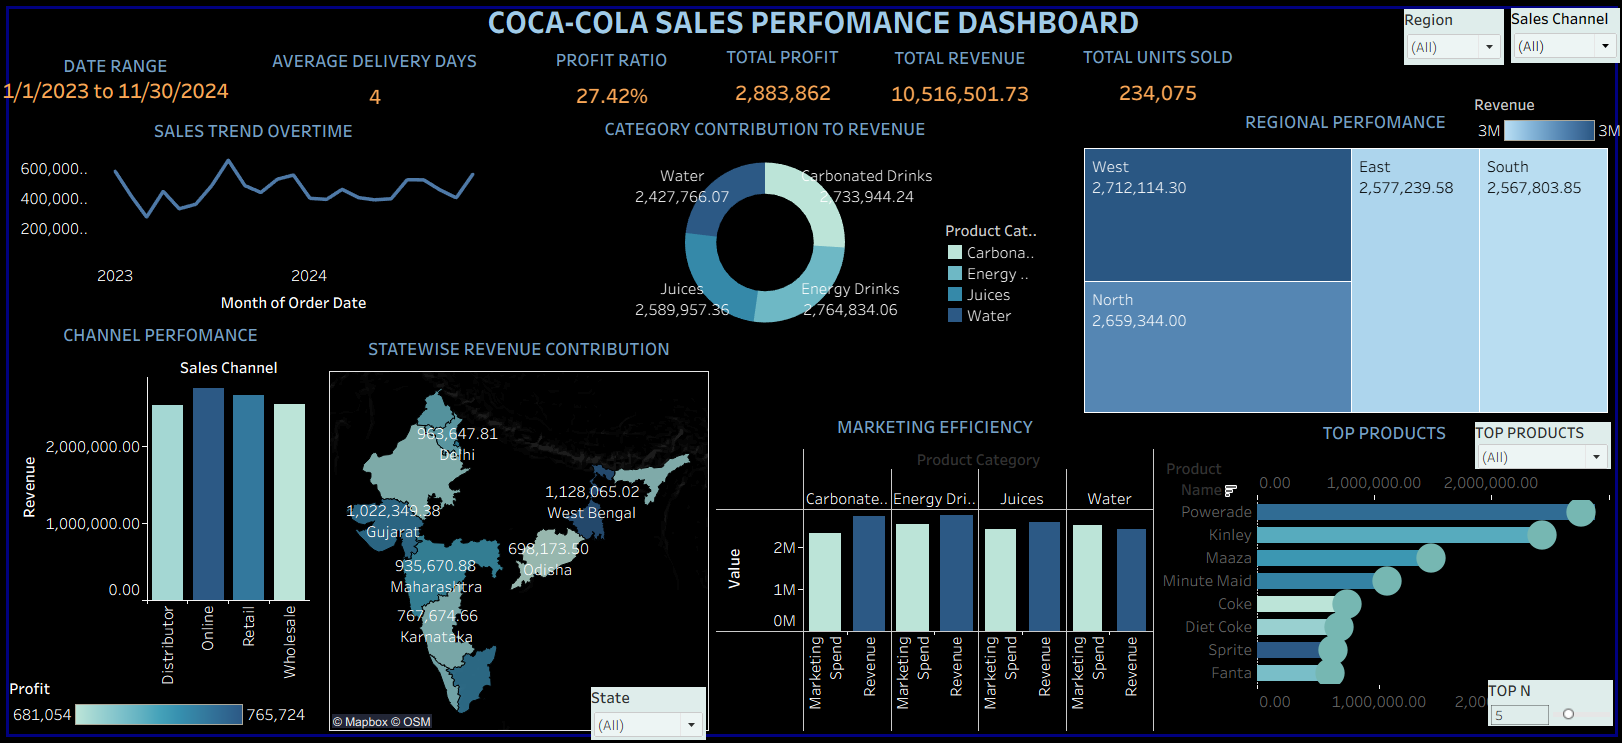

This screenshot's page, from the dashboard's own definition file:
{"tool":"tableau","page":{"name":"Dashboard 1","canvas":[1000,1000],"units":"permille","ordinal":0},"visuals":[{"type":"text","box":[1.8,8,998.2,45.5]},{"type":"filter","title":"CHANNEL PERFOMANCE","param":"[federated.11aw04m0gh0ih91061v0d1frz126].[none:Sales_Channel:nk]","box":[929.4,13.4,67,73.6]},{"type":"filter","title":"REGIONAL PERFOMANCE","param":"[federated.11aw04m0gh0ih91061v0d1frz126].[none:Region:nk]","box":[863.6,14.7,61.4,75]},{"type":"text","box":[0.6,50.9,143.1,115.1]},{"type":"worksheet","title":"Total profit","mark":"Automatic","box":[436.7,56.2,102,115.1]},{"type":"worksheet","title":"TOTAL UNITS SOLD","mark":"Automatic","box":[647.4,56.2,130.2,95]},{"type":"worksheet","title":"TOTAL REVENUE","mark":"Automatic","box":[541.1,57.6,104.4,107.1]},{"type":"worksheet","title":"PROFIT RATIO","mark":"Automatic","box":[322.5,60.2,124.1,109.8]},{"type":"worksheet","title":"avg delivery days","mark":"Automatic","box":[148,61.6,175.7,108.4]},{"type":"legend","title":"REGIONAL PERFOMANCE","param":"[federated.11aw04m0gh0ih91061v0d1frz126].[sum:Revenue:qk]","box":[906.6,128.5,93.4,117.8]},{"type":"worksheet","title":"REGIONAL PERFOMANCE","mark":"Automatic","box":[664.6,143.2,326.2,416.3]},{"type":"worksheet","title":"CATEGORY CONTRIBUTION TO REVENUE","mark":"Pie","rows":["Calculation_1323864894205964","Calculation_1323864894205964"],"box":[300.4,152.6,341.5,297.2]},{"type":"worksheet","title":"SALES TREND OVERTIME","mark":"Automatic","rows":["Revenue"],"cols":["Order_Date"],"box":[10.4,155.3,293,275.8]},{"type":"legend","title":"CATEGORY CONTRIBUTION TO REVENUE","param":"[federated.11aw04m0gh0ih91061v0d1frz126].[none:Product_Category:nk]","box":[581.7,297.2,58.4,141.9]},{"type":"worksheet","title":"CHANNEL PERFOMANCE","mark":"Automatic","rows":["Revenue"],"cols":["Sales_Channel"],"box":[8,428.4,183.7,511.4]},{"type":"worksheet","title":"STATEWISE REVENUE CONTRIBUTION","mark":"Automatic","box":[203.3,447.1,233.4,534.1]},{"type":"worksheet","title":"MARKETING EFFICIENCY","mark":"Automatic","cols":["Product_Category"],"box":[441,551.5,269,431.1]},{"type":"worksheet","title":"TOP PRODUCTS","mark":"Automatic","rows":["Product_Name"],"cols":["Revenue","Revenue"],"box":[711.9,559.6,279.5,421.7]},{"type":"filter","title":"TOP PRODUCTS","param":"[federated.11aw04m0gh0ih91061v0d1frz126].[usr:Calculation_1323864906043407:nk:1]","box":[907.2,567.6,83.5,62.9]},{"type":"legend","title":"CHANNEL PERFOMANCE","param":"[federated.11aw04m0gh0ih91061v0d1frz126].[sum:Profit:qk]","box":[6.8,910.3,184.9,75]},{"type":"parameter","param":"[Parameters].[Parameter 1]","box":[915.2,913,76.8,61.6]},{"type":"filter","title":"STATEWISE REVENUE CONTRIBUTION","param":"[federated.11aw04m0gh0ih91061v0d1frz126].[none:State:nk]","box":[364.2,922.4,70.6,71]}]}

Visuals, with their boxes on the dashboard's canvas, which has no fixed pixel size, in thousandths of its width and height (x1, y1, x2, y2). These are canvas units, not pixel positions in the 1622x743 screenshot, which may show the page scaled, cropped or inside an application window:
text: locate(2, 8, 1000, 54)
"CHANNEL PERFOMANCE" filter: locate(929, 13, 996, 87)
"REGIONAL PERFOMANCE" filter: locate(864, 15, 925, 90)
text: locate(1, 51, 144, 166)
"Total profit" worksheet: locate(437, 56, 539, 171)
"TOTAL UNITS SOLD" worksheet: locate(647, 56, 778, 151)
"TOTAL REVENUE" worksheet: locate(541, 58, 646, 165)
"PROFIT RATIO" worksheet: locate(322, 60, 447, 170)
"avg delivery days" worksheet: locate(148, 62, 324, 170)
"REGIONAL PERFOMANCE" legend: locate(907, 128, 1000, 246)
"REGIONAL PERFOMANCE" worksheet: locate(665, 143, 991, 560)
"CATEGORY CONTRIBUTION TO REVENUE" worksheet (Pie marks): locate(300, 153, 642, 450)
"SALES TREND OVERTIME" worksheet: locate(10, 155, 303, 431)
"CATEGORY CONTRIBUTION TO REVENUE" legend: locate(582, 297, 640, 439)
"CHANNEL PERFOMANCE" worksheet: locate(8, 428, 192, 940)
"STATEWISE REVENUE CONTRIBUTION" worksheet: locate(203, 447, 437, 981)
"MARKETING EFFICIENCY" worksheet: locate(441, 552, 710, 983)
"TOP PRODUCTS" worksheet: locate(712, 560, 991, 981)
"TOP PRODUCTS" filter: locate(907, 568, 991, 630)
"CHANNEL PERFOMANCE" legend: locate(7, 910, 192, 985)
parameter: locate(915, 913, 992, 975)
"STATEWISE REVENUE CONTRIBUTION" filter: locate(364, 922, 435, 993)
